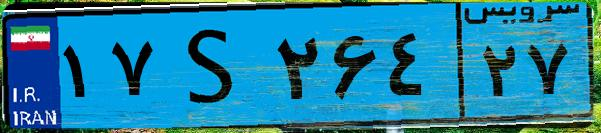1: (57, 26, 110, 100)
2: (270, 28, 330, 110), (475, 38, 525, 113)
4: (385, 28, 445, 110)
6: (330, 28, 385, 110)
7: (525, 38, 570, 115), (110, 28, 158, 98)
S: (158, 12, 270, 120)
